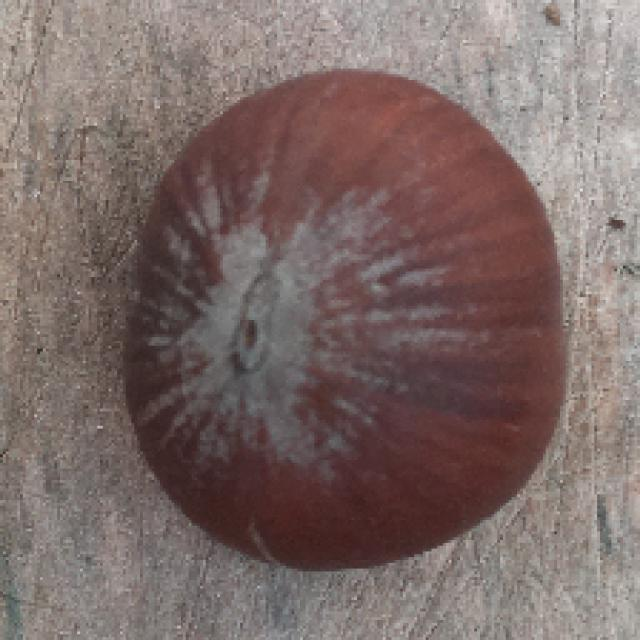damagedHazelnut: (123, 56, 574, 582)
